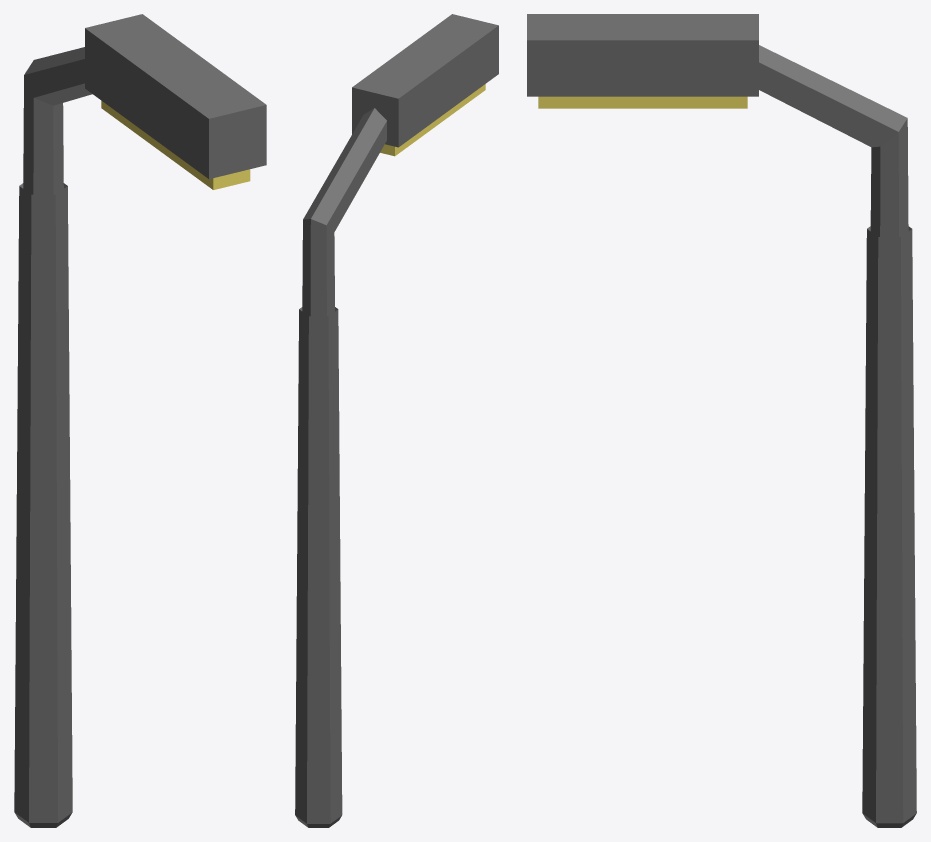
Rendered from PR_Lamp2_01.fbx.
3 views of the same model, side by side, from view 1: azimuth 30°, elevation 25°; view 2: azimuth 150°, elevation 25°; view 3: azimuth 270°, elevation 25° (orthographic). The views are drawn at different scales.
Visible parts, largest first — view 1: PR_Lamp2_01, Cube.006; view 2: PR_Lamp2_01, Cube.006; view 3: PR_Lamp2_01, Cube.006.
Boxes of the visible parts, x1,y1,x2,y2 form: PR_Lamp2_01: (14, 47, 92, 827); Cube.006: (85, 14, 266, 189); PR_Lamp2_01: (295, 108, 386, 827); Cube.006: (352, 14, 498, 156); PR_Lamp2_01: (759, 45, 916, 827); Cube.006: (527, 14, 758, 108).
Bounding box in the file's own units: 36.95 × 520 × 232.
